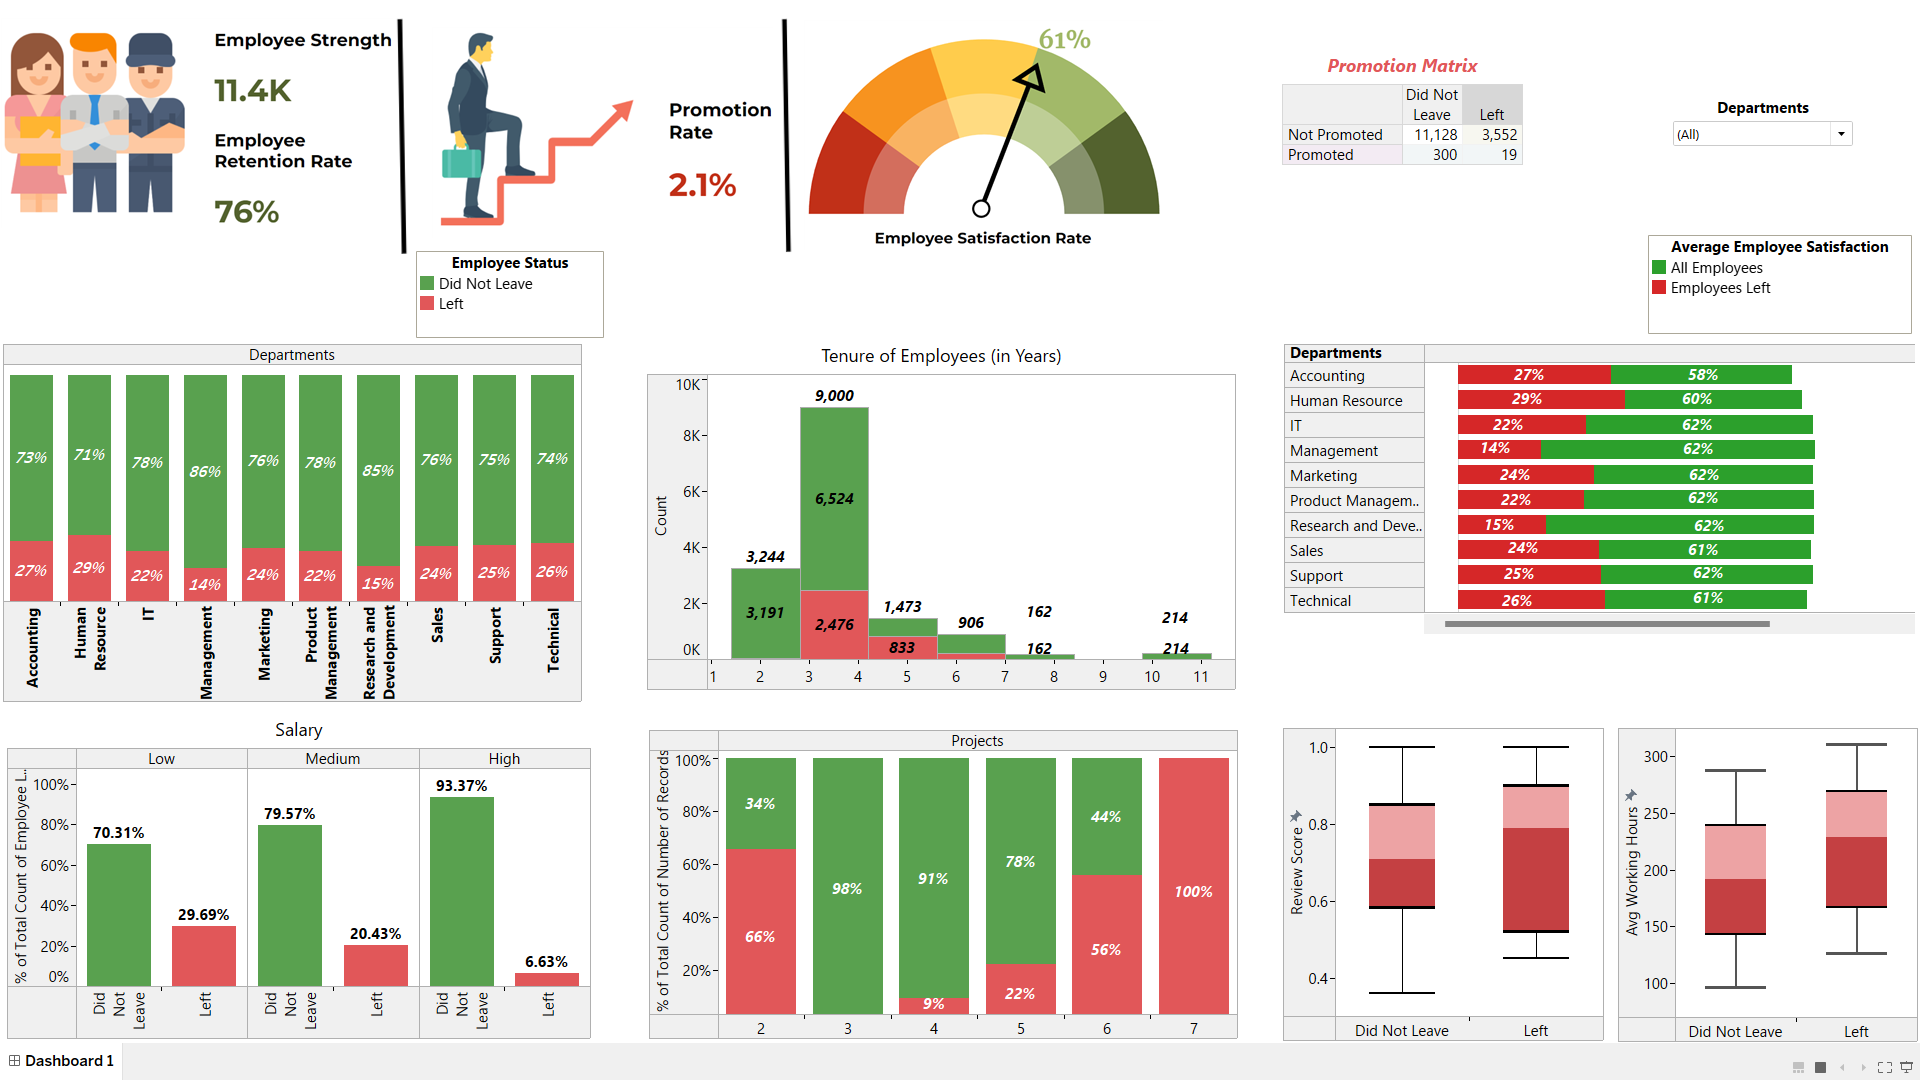

Layout of this report page (visuals, bound fields, positions):
{"tool":"tableau","page":{"name":"Dashboard 1","canvas":[1000,1000],"units":"permille","ordinal":0},"visuals":[{"type":"image","param":"Image/line.png","box":[202.8,15.3,14.5,236.2]},{"type":"image","param":"Image/line.png","box":[403.2,15.3,15.1,233.8]},{"type":"image","param":"Image/ERR.png","box":[0.6,17.6,204,296.1]},{"type":"image","param":"Image/ESR.png","box":[418.9,18.8,212.5,220.9]},{"type":"image","param":"Image/PR.png","box":[225.2,25.9,178,202.1]},{"type":"worksheet","title":"Promotion Matrix","mark":"Automatic","rows":["Promoted"],"cols":["left"],"box":[667.5,50.5,152.1,135.1]},{"type":"filter","title":"dept vs left","param":"[federated.14df9ma18othxl159tfy201kacba].[none:Departments:nk]","box":[869.6,92.8,96.6,57.6]},{"type":"legend","title":"satisfaction left vs retained","param":"[federated.14df9ma18othxl159tfy201kacba].[:Measure Names]","box":[858.2,225.6,137.6,95.2]},{"type":"legend","title":"dept vs left","param":"[federated.14df9ma18othxl159tfy201kacba].[none:left:ok]","box":[216.7,240.9,97.8,83.4]},{"type":"worksheet","title":"Tenure of Employees (in Years)","mark":"Automatic","rows":["Tenure","Tenure"],"cols":["Tenure (bin)"],"box":[337,329,306.8,340.8]},{"type":"worksheet","title":"dept vs left","mark":"Automatic","rows":["Number of Records"],"cols":["Departments"],"box":[1.8,330.2,301.8,343.1]},{"type":"worksheet","title":"satisfaction left vs retained","mark":"Bar","rows":["Departments"],"cols":["Satisfaction","left (copy)"],"box":[668.7,330.2,328.9,344.3]},{"type":"worksheet","title":"Salary","mark":"Automatic","cols":["Salary","left"],"box":[3.6,687.4,304.4,309.1]},{"type":"worksheet","title":"left and review","mark":"Circle","rows":["Review"],"cols":["left"],"box":[668.1,691,167.2,306.7]},{"type":"worksheet","title":"box plot(left)","mark":"Circle","rows":["averageWorkingHours_month"],"cols":["left"],"box":[842.5,698,156.3,300.8]},{"type":"worksheet","title":"project vs left","mark":"Automatic","rows":["Number of Records"],"cols":["Projects"],"box":[338,700.4,306.6,296.1]}]}

Visuals, with their boxes on the dashboard's canvas, which has no fixed pixel size, in thousandths of its width and height (x1, y1, x2, y2). These are canvas units, not pixel positions in the 1920x1080 screenshot, which may show the page scaled, cropped or inside an application window:
image: x1=203 y1=15 x2=217 y2=252
image: x1=403 y1=15 x2=418 y2=249
image: x1=1 y1=18 x2=205 y2=314
image: x1=419 y1=19 x2=631 y2=240
image: x1=225 y1=26 x2=403 y2=228
"Promotion Matrix" worksheet: x1=668 y1=50 x2=820 y2=186
"dept vs left" filter: x1=870 y1=93 x2=966 y2=150
"satisfaction left vs retained" legend: x1=858 y1=226 x2=996 y2=321
"dept vs left" legend: x1=217 y1=241 x2=314 y2=324
"Tenure of Employees (in Years)" worksheet: x1=337 y1=329 x2=644 y2=670
"dept vs left" worksheet: x1=2 y1=330 x2=304 y2=673
"satisfaction left vs retained" worksheet (Bar marks): x1=669 y1=330 x2=998 y2=674
"Salary" worksheet: x1=4 y1=687 x2=308 y2=996
"left and review" worksheet (Circle marks): x1=668 y1=691 x2=835 y2=998
"box plot(left)" worksheet (Circle marks): x1=842 y1=698 x2=999 y2=999
"project vs left" worksheet: x1=338 y1=700 x2=645 y2=996
